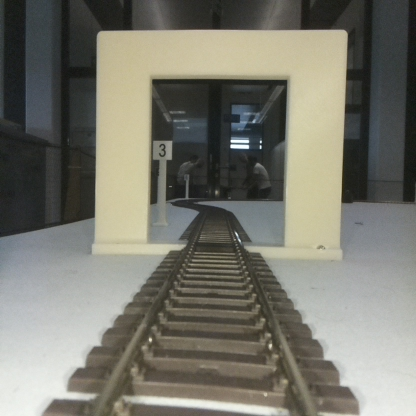white-info-3: (152, 140, 172, 224)
